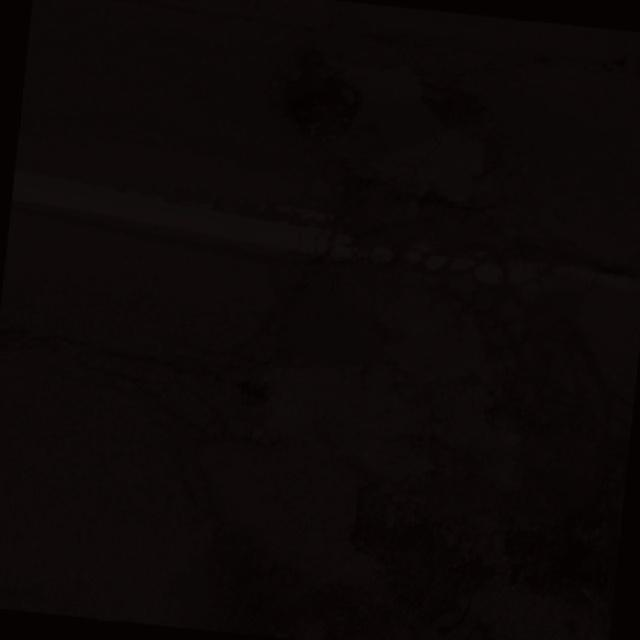Pothole: (276, 16, 503, 212), (265, 246, 402, 383)
